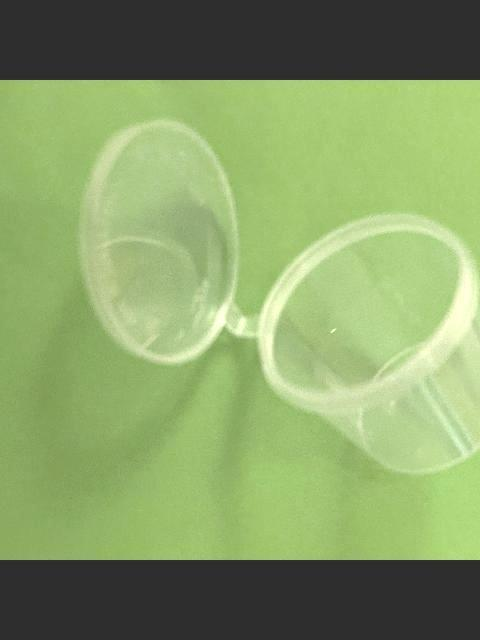plasticcontainer: (71, 114, 480, 475)
